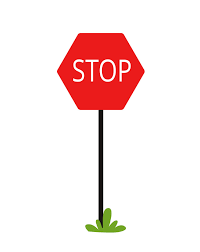SS: (56, 31, 144, 113)
